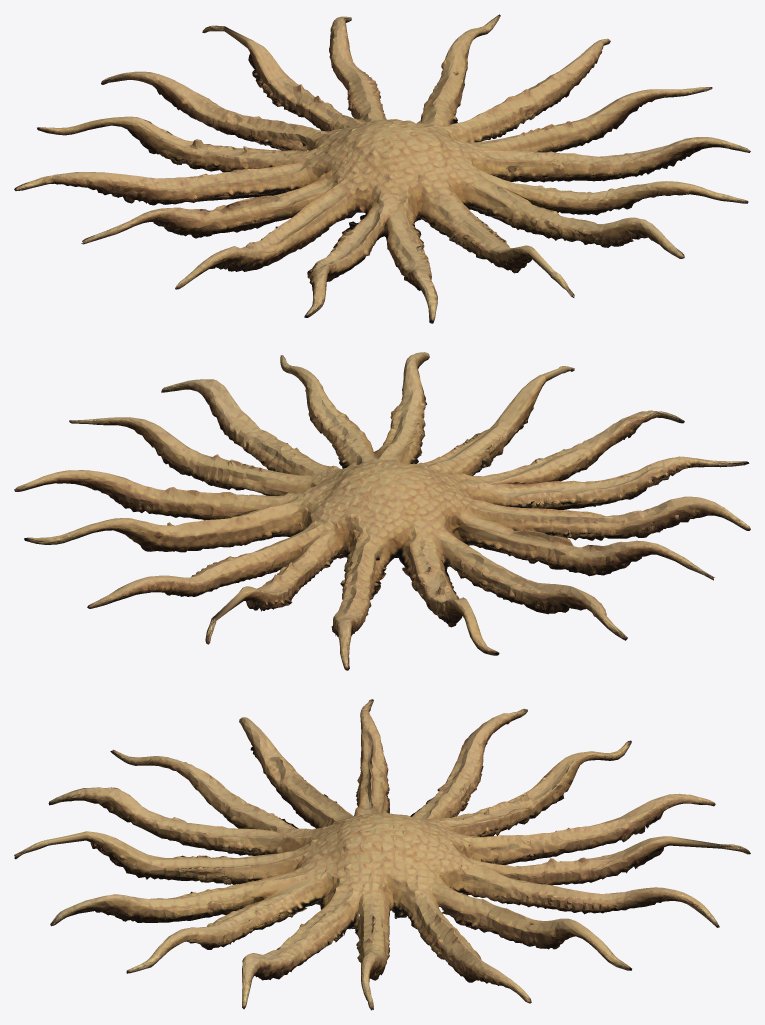
3 renders of one model, top to bottom at view 1: azimuth 30°, elevation 25°; view 2: azimuth 150°, elevation 25°; view 3: azimuth 270°, elevation 25°, orthographic. The views are drawn at different scales.
Visible parts, largest first — view 1: world; view 2: world; view 3: world.
Part boxes in pixels (x1,y1,x2,y2): world: (14,14,750,323); world: (14,352,750,670); world: (14,699,750,1010).
Size of the model in its own units: 0.1598 by 0.0141 by 0.16.
Materials: 3 (3 with a texture image).
